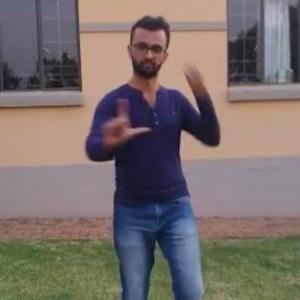land_hand: (99, 92, 152, 150)
